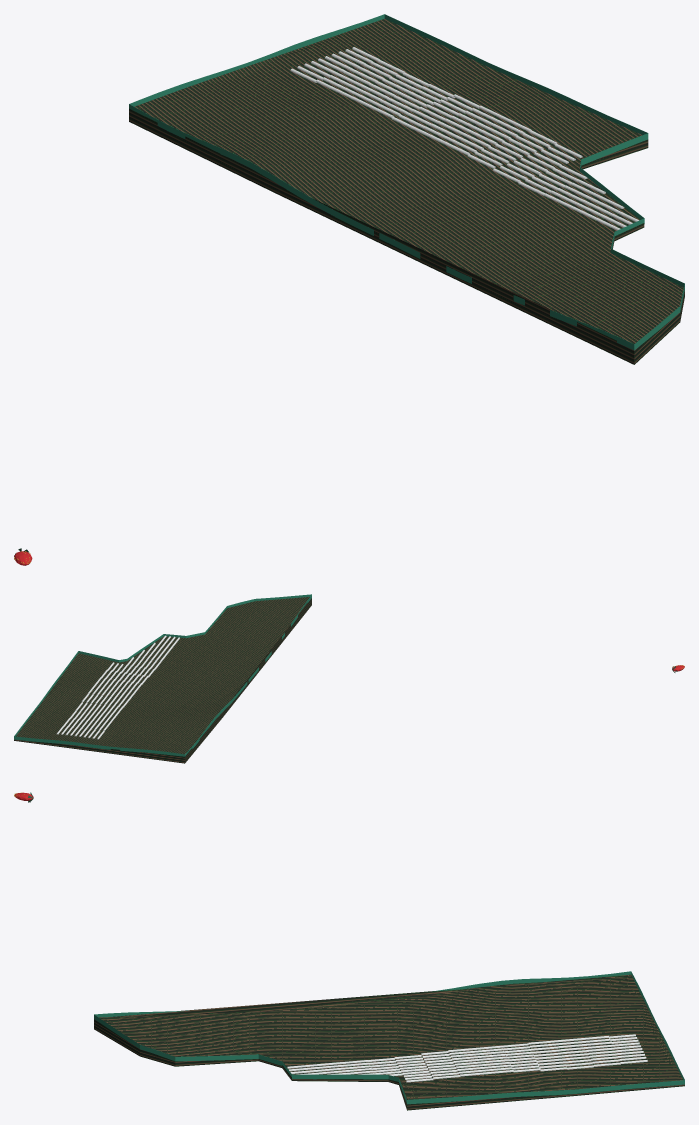
File: la-trinidad-strawberry-farms.7d6fa21b.glb
3 views of the same model, one above another, from view 1: azimuth 30°, elevation 25°; view 2: azimuth 150°, elevation 25°; view 3: azimuth 270°, elevation 25° (orthographic). The views are drawn at different scales.
Size of the model in its own units: 272 by 7.07 by 245.
6 materials, 1 textured.
